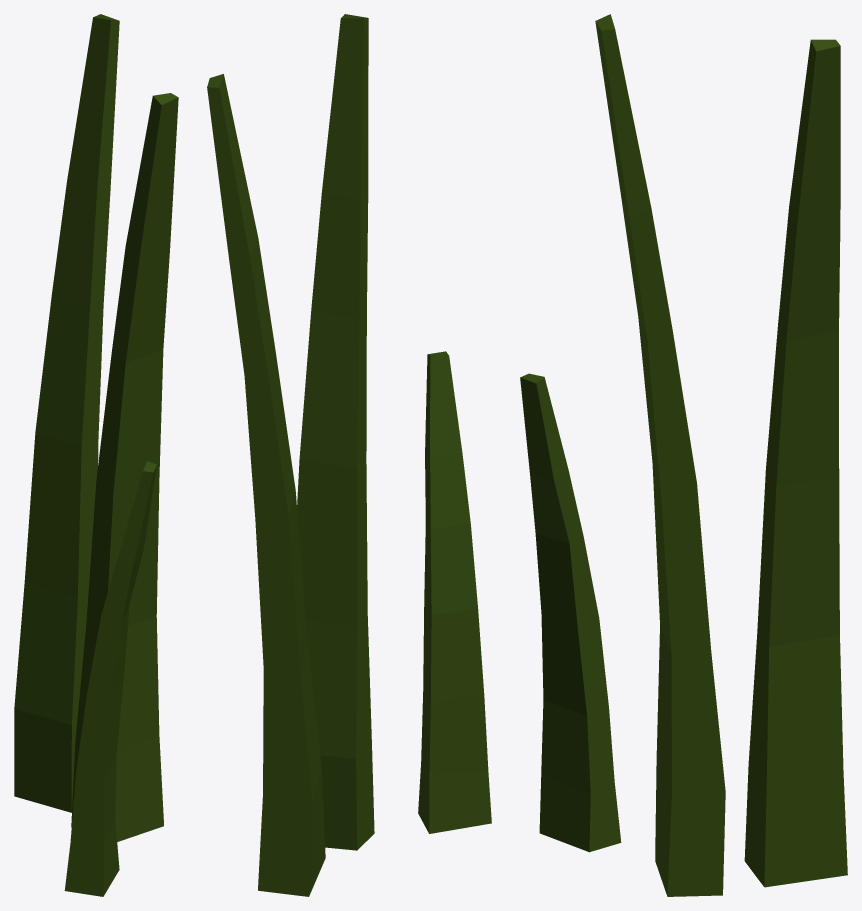
Rendered from grass005_grass1_0_lev1.glb.
The picture shows the model from 3 angles, left to right: view 1: azimuth 30°, elevation 25°; view 2: azimuth 150°, elevation 25°; view 3: azimuth 270°, elevation 25°; orthographic projection. The views are drawn at different scales.
Visible parts, largest first — view 1: grass005_grass1_0_lev1; view 2: grass005_grass1_0_lev1; view 3: grass005_grass1_0_lev1.
Part boxes in pixels (left/top/right/bottom): grass005_grass1_0_lev1: left=14, top=14, right=178, bottom=896; grass005_grass1_0_lev1: left=207, top=14, right=491, bottom=896; grass005_grass1_0_lev1: left=520, top=14, right=847, bottom=896.
Bounding box in the file's own units: 0.0589 × 0.2633 × 0.0903.
